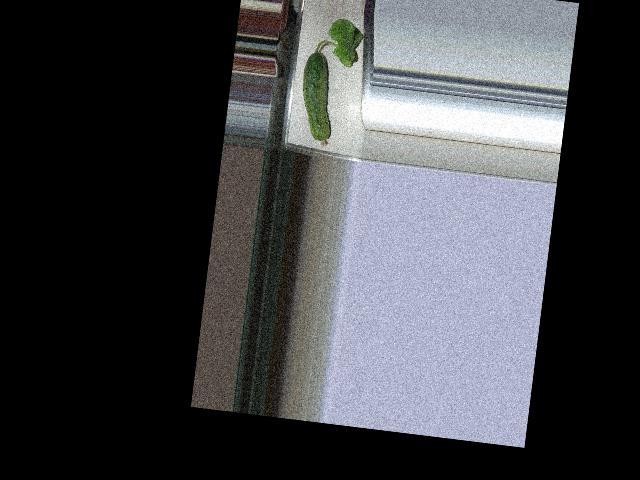cucumber: (295, 49, 340, 146)
